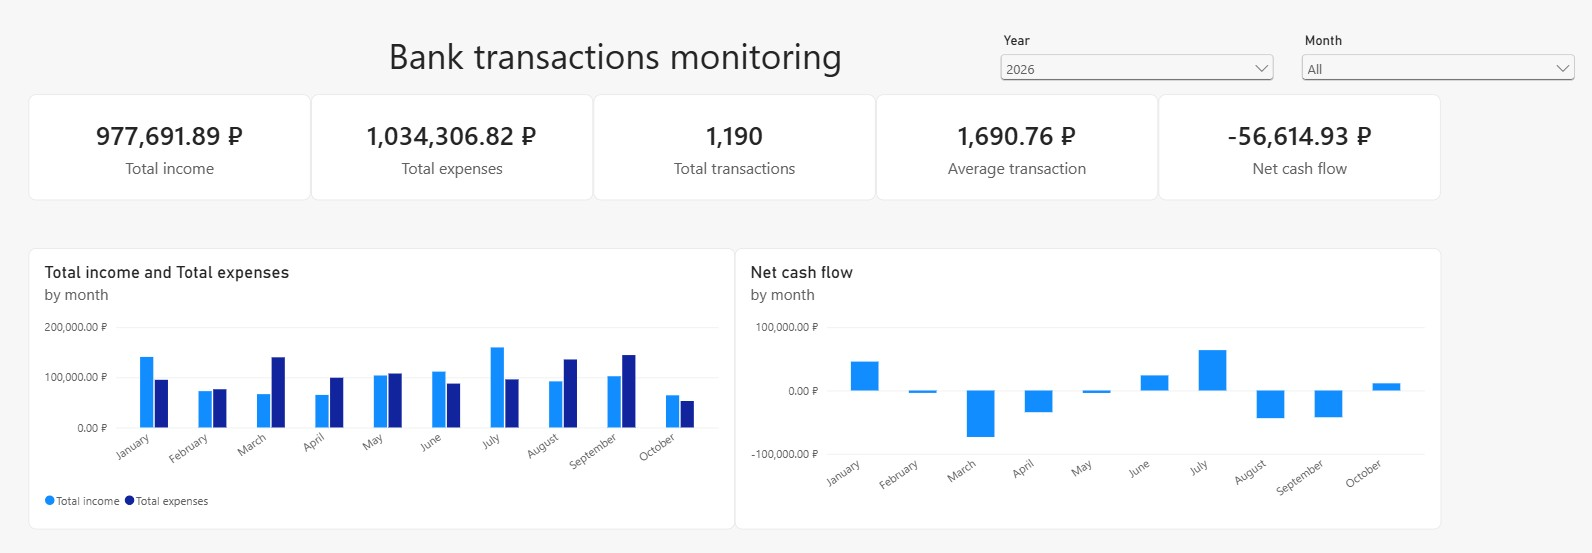

The dashboard page shown, as its layout file describes it:
{"tool":"powerbi","page":{"name":"Bank transactions dashboard","canvas":[1920,1080],"ordinal":0},"visuals":[{"type":"slicer","fields":{"Values":["DimDate.MONTH"]},"box":[1580.1,41.2,300.3,66.4],"z":0},{"type":"slicer","fields":{"Values":["DimDate.YEAR"]},"box":[1259.8,41.2,300.3,66.4],"z":1000},{"type":"card","fields":{"Values":["Bank Transactions.TotalTransactions"]},"box":[831.9,107.6,300.3,113],"z":2000},{"type":"card","fields":{"Values":["Bank Transactions.TotalIncome"]},"box":[231.2,107.6,300.3,113],"z":3000},{"type":"card","fields":{"Values":["Bank Transactions.TotalExpenses"]},"box":[531.6,107.6,300.3,113],"z":4000},{"type":"card","fields":{"Values":["Bank Transactions.NetCashFlow"]},"box":[1432.6,107.6,300.3,113],"z":5000},{"type":"card","fields":{"Values":["Bank Transactions.AverageTransaction"]},"box":[1132.2,107.6,300.3,113],"z":6000},{"type":"textbox","box":[614,41.2,616.6,59.8],"z":7000},{"type":"clusteredColumnChart","fields":{"Category":["DimDate.MONTH"],"Y":["Bank Transactions.TotalIncome","Bank Transactions.TotalExpenses"]},"box":[231.2,271.1,750.8,299],"z":8000},{"type":"clusteredColumnChart","fields":{"Category":["DimDate.MONTH"],"Y":["Bank Transactions.NetCashFlow"]},"box":[982.1,271.1,750.8,299],"z":9000}]}

Visuals, with their boxes on the page's 1920x1080 design canvas (x1, y1, x2, y2). These are canvas units, not pixel positions in the 1592x553 screenshot, which may show the page scaled, cropped or inside an application window:
slicer - DimDate.MONTH: select_region(1580, 41, 1880, 108)
slicer - DimDate.YEAR: select_region(1260, 41, 1560, 108)
card - Bank Transactions.TotalTransactions: select_region(832, 108, 1132, 221)
card - Bank Transactions.TotalIncome: select_region(231, 108, 532, 221)
card - Bank Transactions.TotalExpenses: select_region(532, 108, 832, 221)
card - Bank Transactions.NetCashFlow: select_region(1433, 108, 1733, 221)
card - Bank Transactions.AverageTransaction: select_region(1132, 108, 1432, 221)
textbox: select_region(614, 41, 1231, 101)
clusteredColumnChart - DimDate.MONTH x Bank Transactions.TotalIncome: select_region(231, 271, 982, 570)
clusteredColumnChart - DimDate.MONTH x Bank Transactions.NetCashFlow: select_region(982, 271, 1733, 570)
